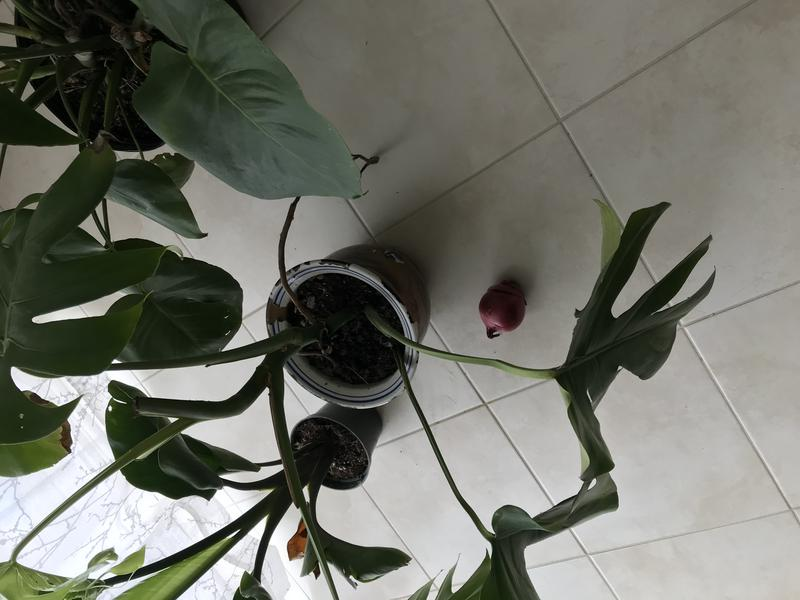purple_onion: (469, 271, 532, 345)
